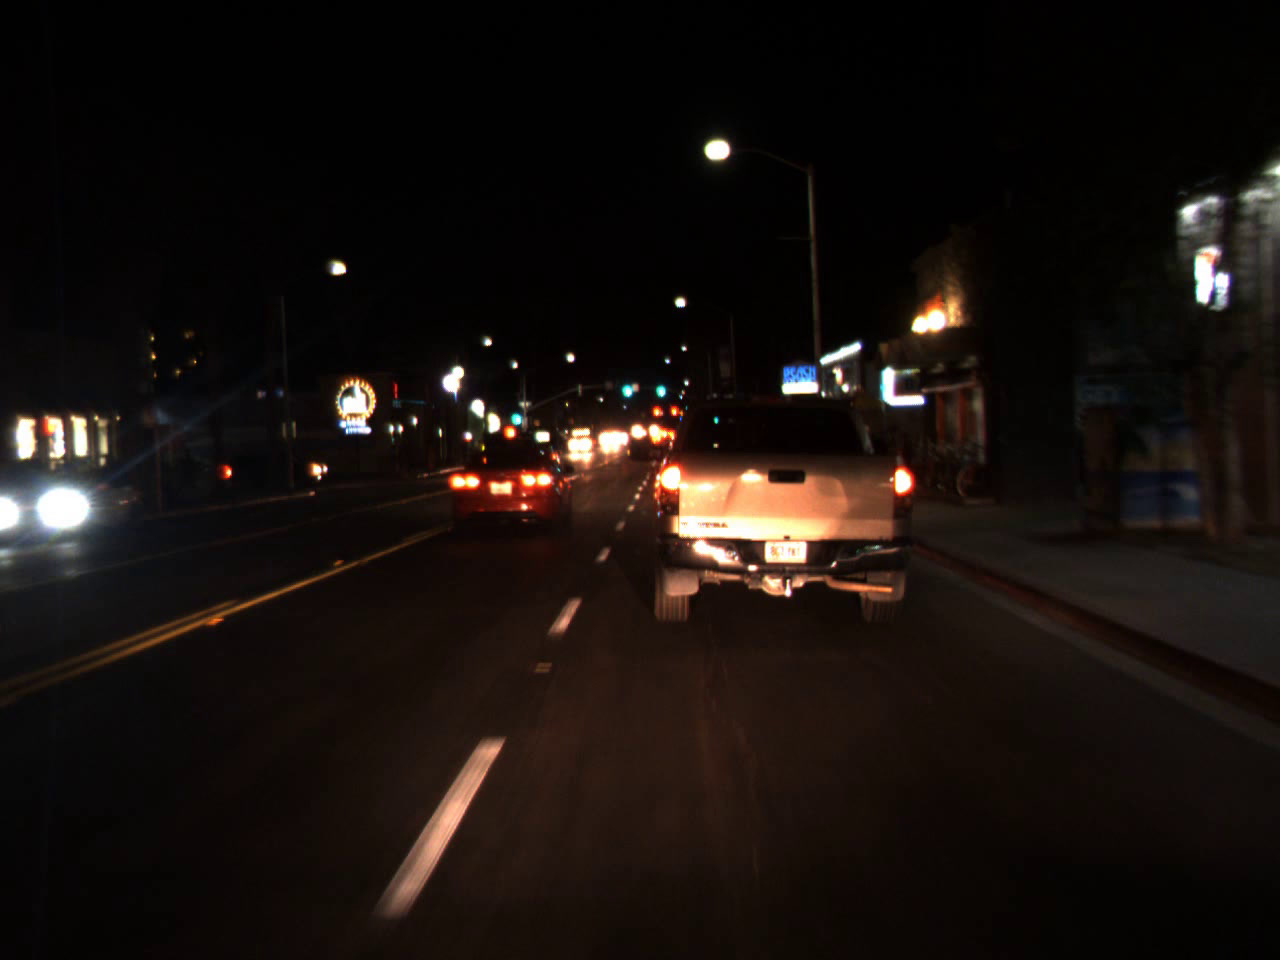go: (617, 371, 636, 401), (653, 369, 667, 402), (506, 403, 524, 427)
